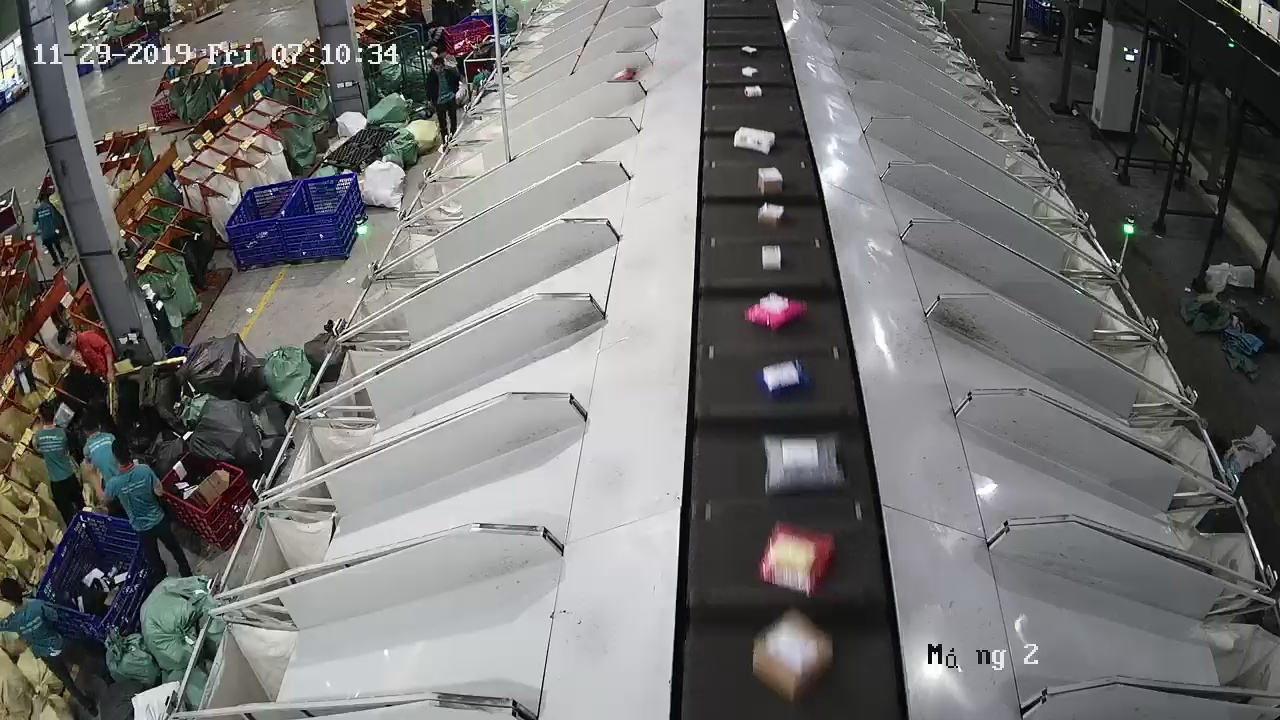parcel: (752, 606, 834, 705), (759, 521, 837, 597), (762, 431, 849, 496), (745, 292, 808, 330), (758, 358, 807, 397), (733, 126, 776, 156), (757, 167, 784, 195), (758, 202, 785, 227), (761, 244, 782, 271)
